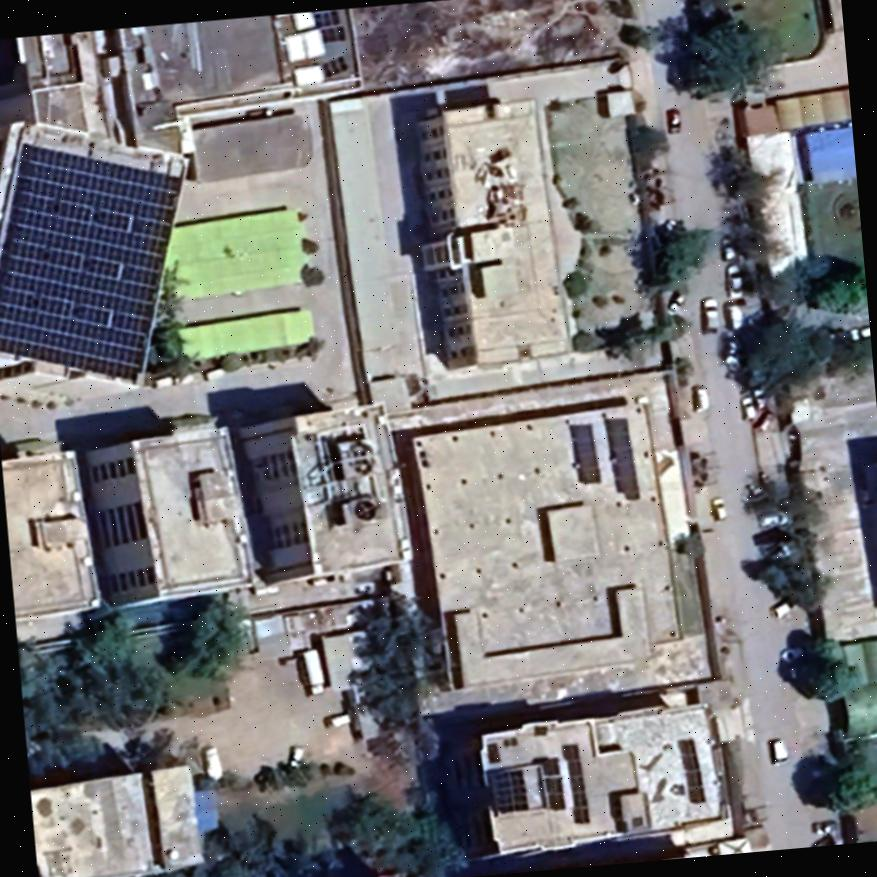Solarpanel: (0, 134, 188, 391), (474, 755, 536, 819), (597, 411, 641, 501), (555, 735, 592, 828), (559, 417, 604, 491), (670, 733, 707, 808), (530, 750, 568, 815)
